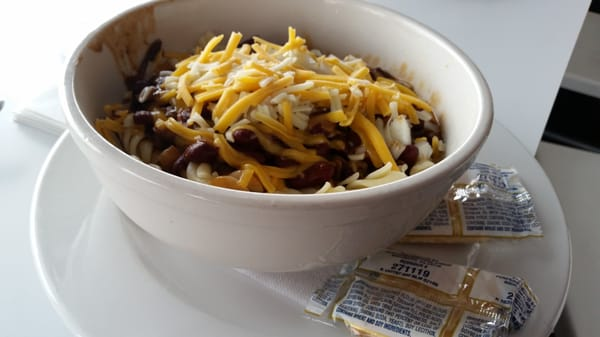sushi: (42, 1, 487, 275)
